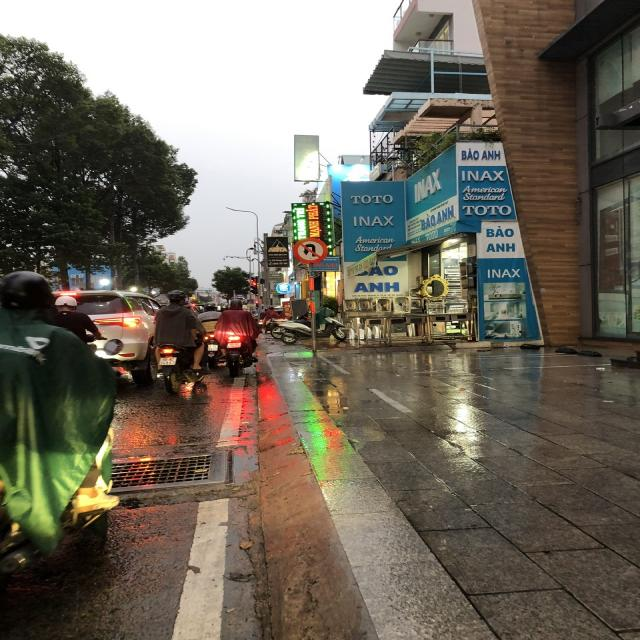Bien bao cam quay dau xe: (291, 236, 330, 265)
